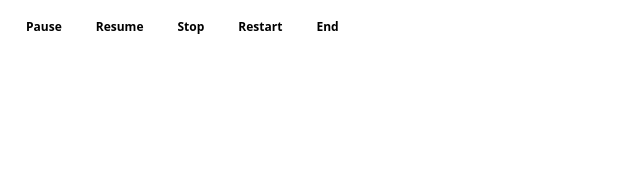
Test case: FR-CTL-004 Restart shows the new run the engine answered with › opens the new run id, not the one that was restarted
Click the button "Restart" at x=260, y=27, box [224,12,296,42]
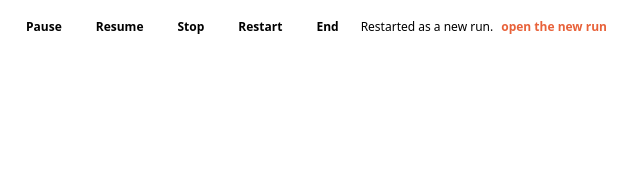
Now the element with test id "run-restarted" shows "Restarted as a new run", box [361,18,493,35]
